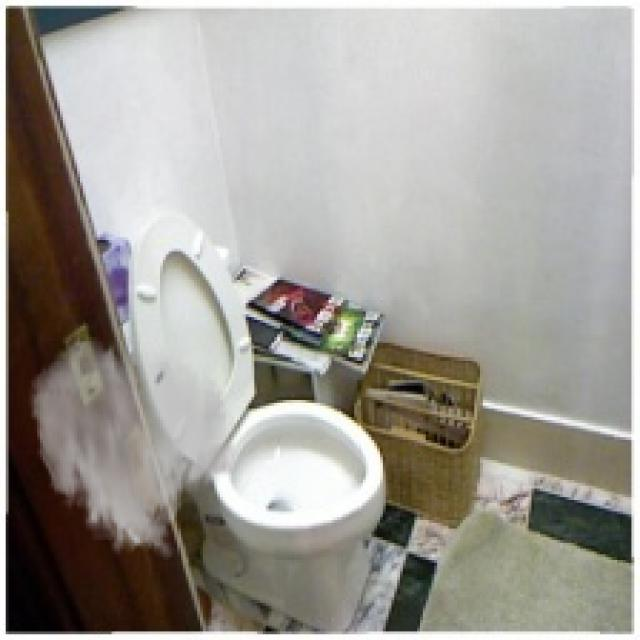smoke: (29, 334, 240, 563)
